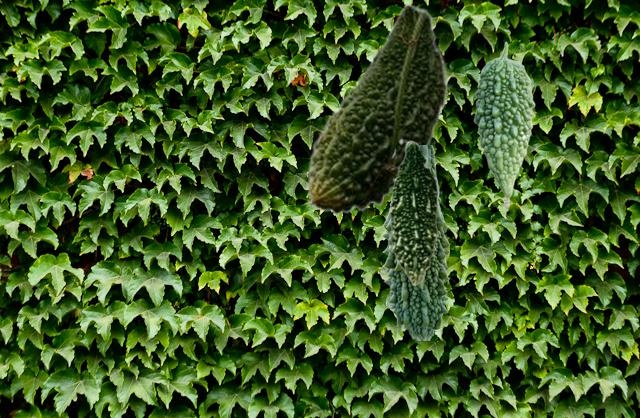ampalaya: (306, 3, 448, 214), (381, 145, 449, 339), (473, 41, 534, 210), (389, 138, 441, 286)
